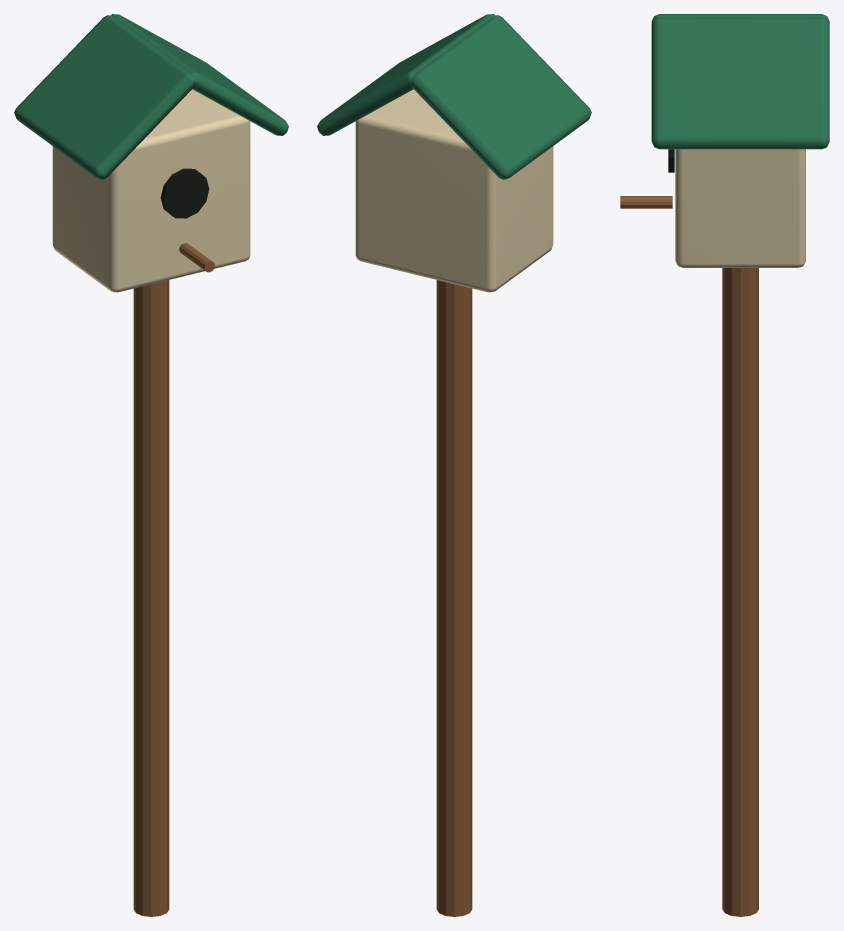
File: Birdhouse.glb
3 views of the same model, side by side, from view 1: azimuth 30°, elevation 25°; view 2: azimuth 150°, elevation 25°; view 3: azimuth 270°, elevation 25° (orthographic). The views are drawn at different scales.
Parts seen in each view (by area): view 1: Birdhouse / cream body, Birdhouse / cedar post, Birdhouse / pitched emerald roof, Birdhouse / pitched emerald roof.001, Birdhouse / entrance; view 2: Birdhouse / cream body, Birdhouse / cedar post, Birdhouse / pitched emerald roof, Birdhouse / pitched emerald roof.001; view 3: Birdhouse / cedar post, Birdhouse / pitched emerald roof.001, Birdhouse / cream body, Birdhouse / pitched emerald roof, Birdhouse / perch.
Boxes of the visible parts, x1,y1,x2,y2 form: Birdhouse / cream body: (52,89,250,292); Birdhouse / cedar post: (133,280,169,916); Birdhouse / pitched emerald roof: (14,15,193,179); Birdhouse / pitched emerald roof.001: (111,14,288,135); Birdhouse / entrance: (160,168,209,218); Birdhouse / cream body: (355,89,553,292); Birdhouse / cedar post: (436,280,472,916); Birdhouse / pitched emerald roof: (412,15,591,179); Birdhouse / pitched emerald roof.001: (317,14,494,135); Birdhouse / cedar post: (722,268,758,916); Birdhouse / pitched emerald roof.001: (651,17,829,149); Birdhouse / cream body: (675,149,805,267); Birdhouse / pitched emerald roof: (651,14,829,24); Birdhouse / perch: (620,196,672,208).
Bounding box in the file's own units: 0.4418 × 1.88 × 0.4.
